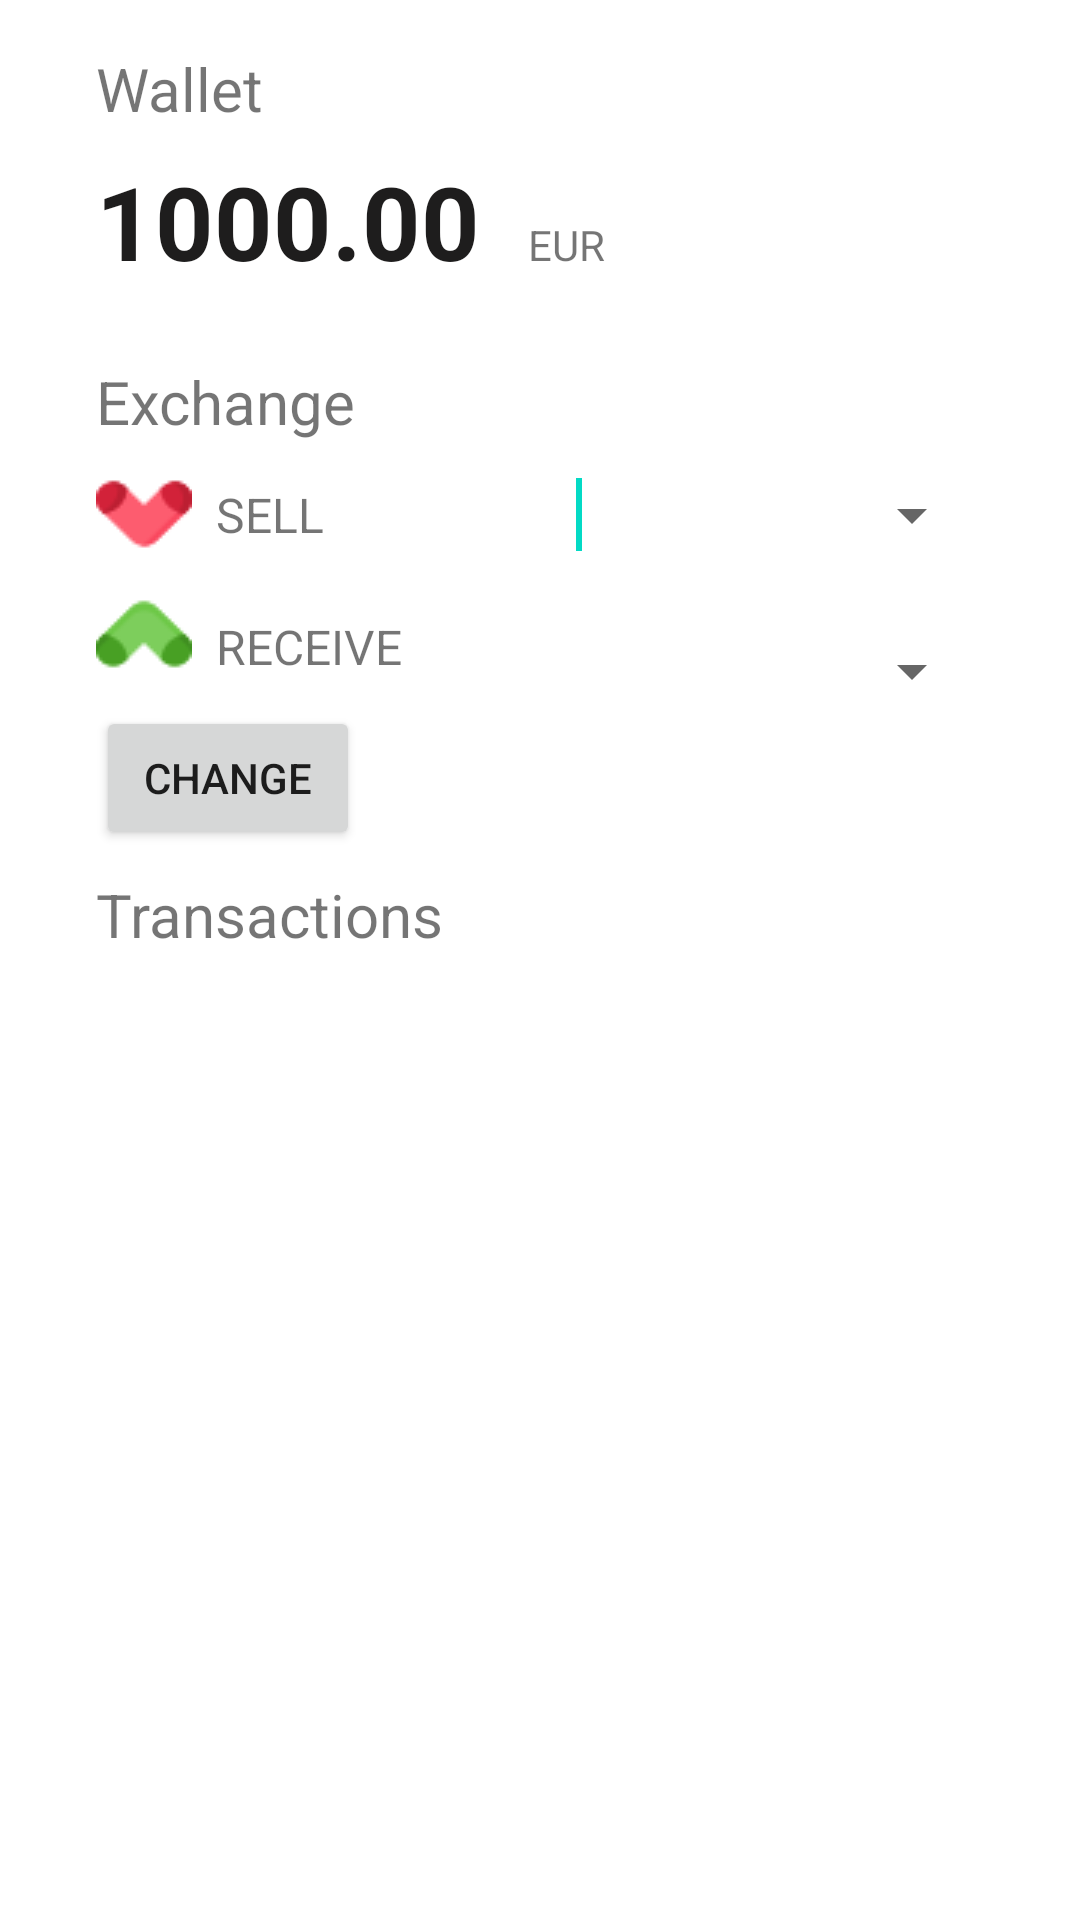

Point at icon controls on the screen. Image size 1080x1920, points as (x=x, y=y).
arrow down: (x=144, y=514)
arrow up: (x=144, y=634)
